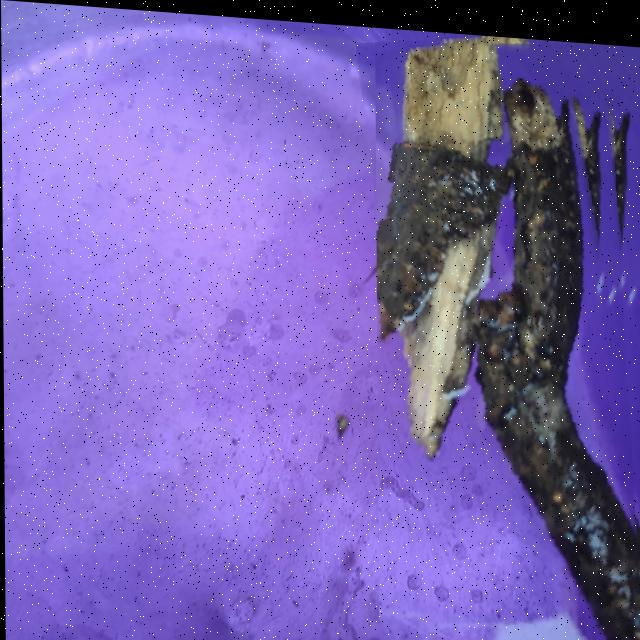litter: (374, 22, 640, 640)
